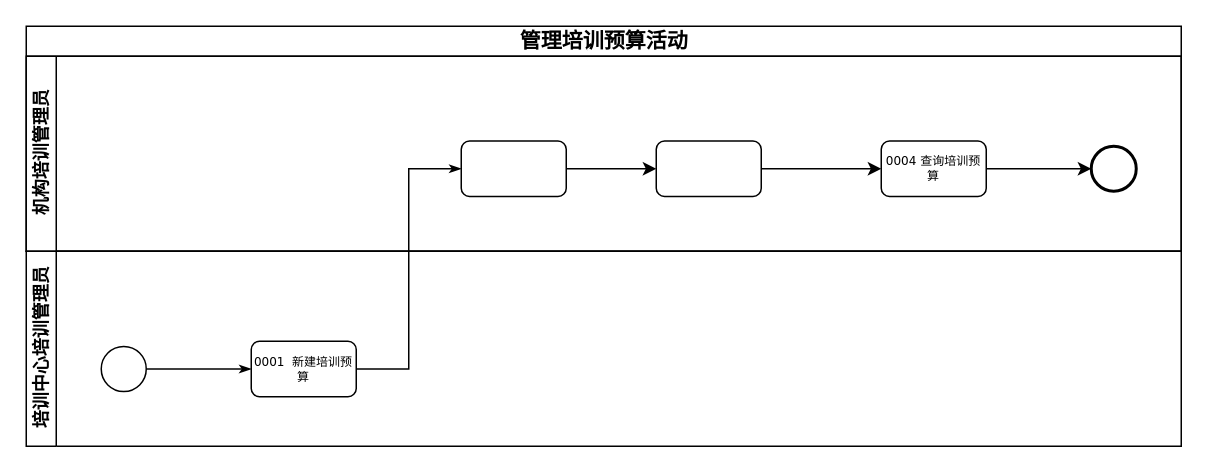
The diagram is 1208 pixels wide and 473 high, and some of its shapes have lost their labels. The shapes that lost their labels are listed below. From the top down, each one's centre as x and y in pixels, then its label:
(x=513, y=168): 0002 申请培训预算
(x=708, y=168): 0003 审批培训预算
